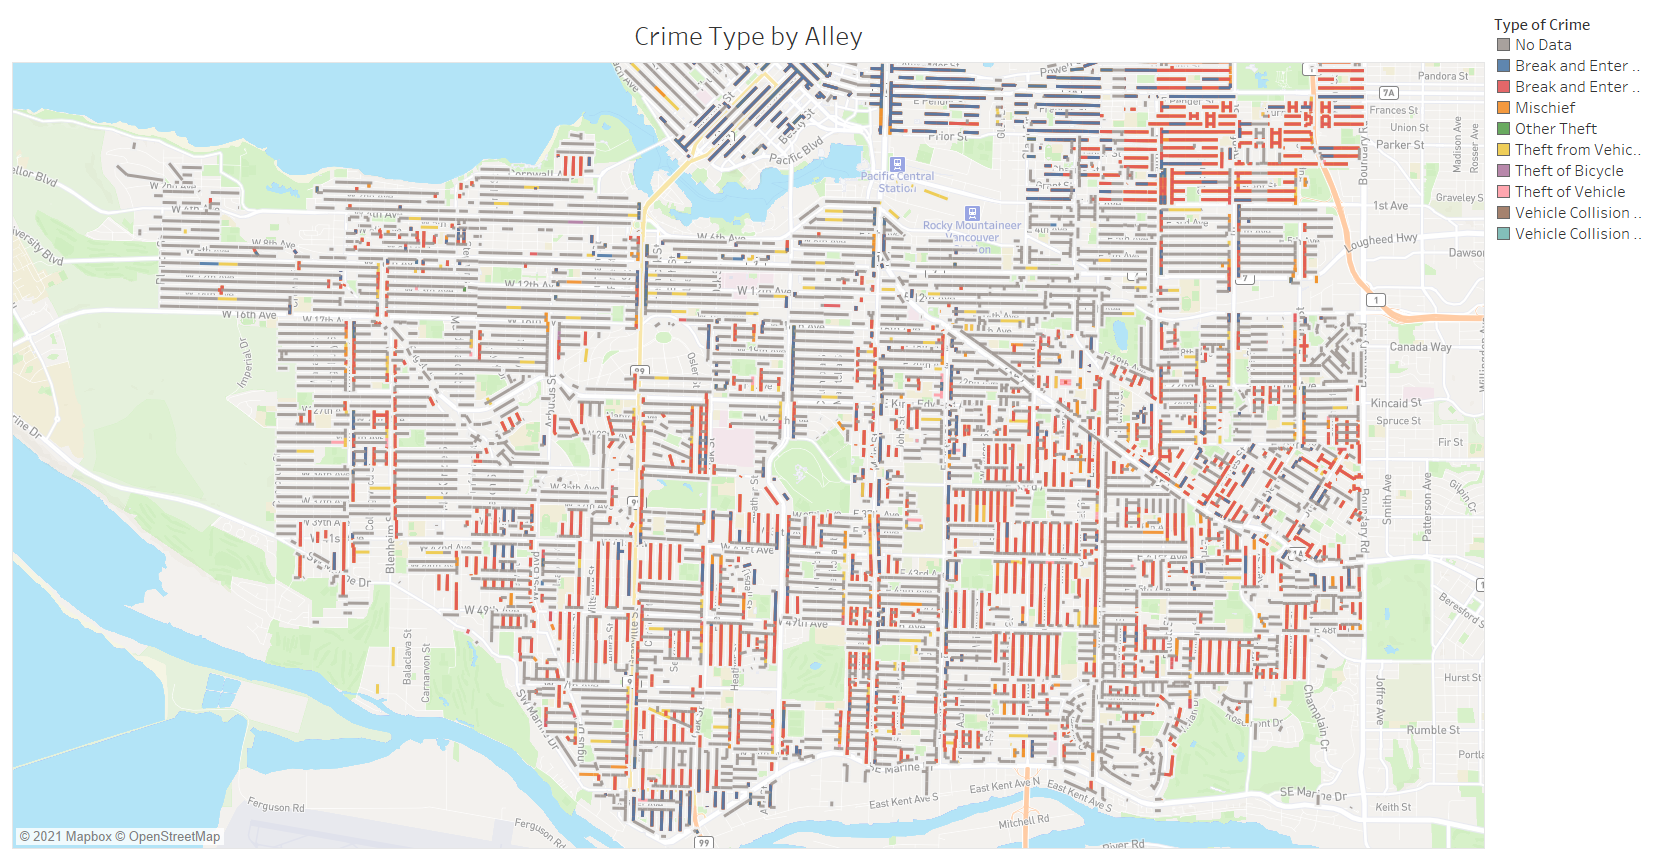

This screenshot's page, from the dashboard's own definition file:
{"tool":"tableau","page":{"name":"Dashboard 1","canvas":[1000,1000],"units":"permille","ordinal":0},"visuals":[{"type":"worksheet","title":"Sheet 1","mark":"Automatic","box":[4.8,9.3,893.8,981.4]},{"type":"legend","title":"Sheet 1","param":"[federated.1s4b5z10wqg3g819w9l4s04un8us].[none:TYPE:nk]","box":[898.6,9.3,96.6,278.7]}]}

Visuals, with their boxes on the dashboard's canvas, which has no fixed pixel size, in thousandths of its width and height (x1, y1, x2, y2). These are canvas units, not pixel positions in the 1657x861 screenshot, which may show the page scaled, cropped or inside an application window:
"Sheet 1" worksheet: box=[5, 9, 899, 991]
"Sheet 1" legend: box=[899, 9, 995, 288]
